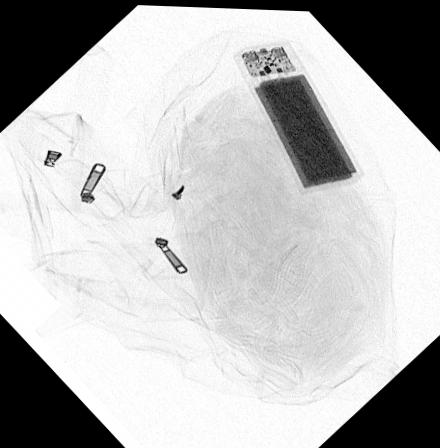Powerbank: (230, 34, 363, 189)
